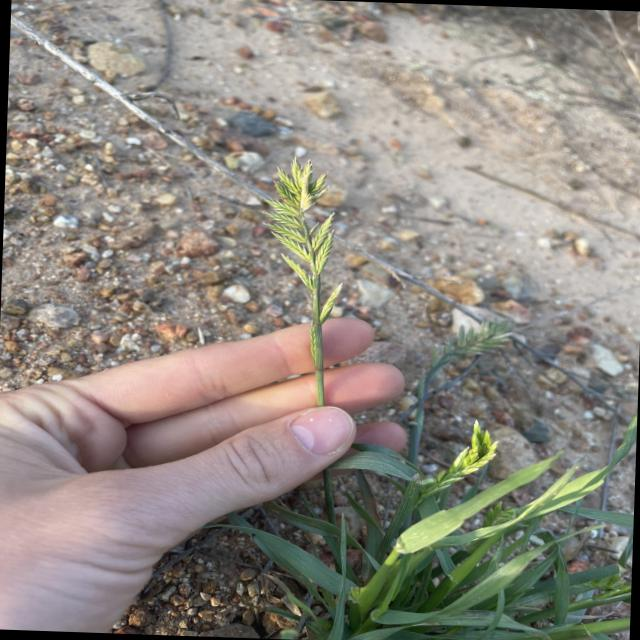Lolium: (249, 154, 352, 409)
